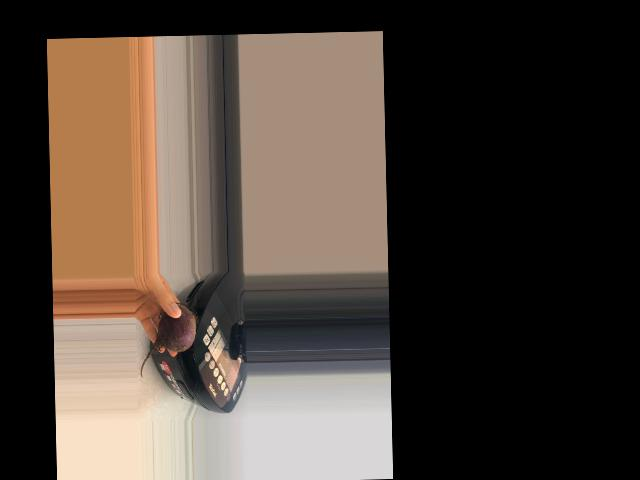beet: (139, 302, 199, 377)
